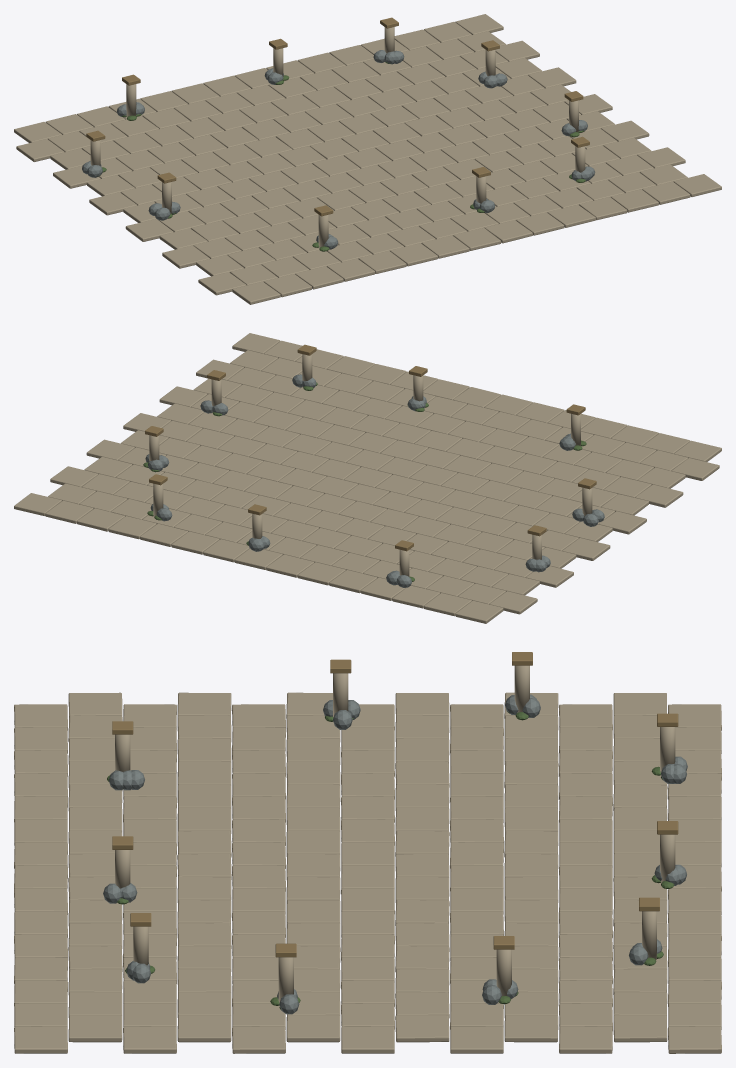
Rendered from gray_meadow_hunt.glb.
3 renders of one model, top to bottom at view 1: azimuth 30°, elevation 25°; view 2: azimuth 150°, elevation 25°; view 3: azimuth 270°, elevation 25°, orthographic. The views are drawn at different scales.
Visible parts, largest first — view 1: gray_meadow_hunt Geometry; view 2: gray_meadow_hunt Geometry; view 3: gray_meadow_hunt Geometry.
Boxes of the visible parts, x1,y1,x2,y2 form: gray_meadow_hunt Geometry: (14, 14, 721, 304); gray_meadow_hunt Geometry: (14, 333, 721, 623); gray_meadow_hunt Geometry: (14, 652, 721, 1053).
Size of the model in its own units: 46.48 by 3.9 by 38.98.
